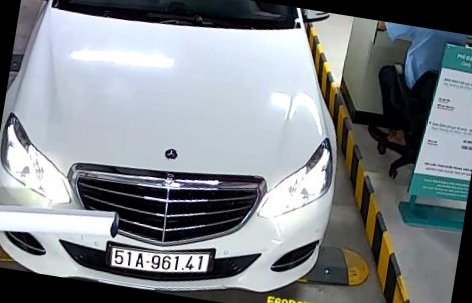plate: (100, 238, 216, 284)
